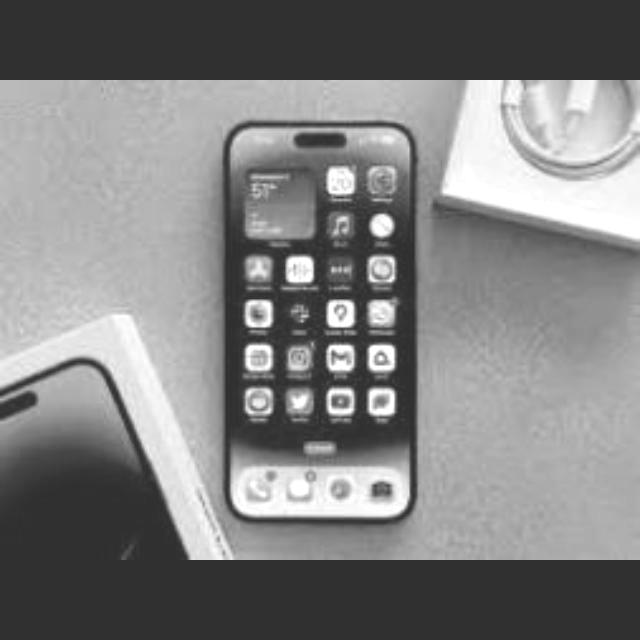fake: (224, 115, 420, 526)
